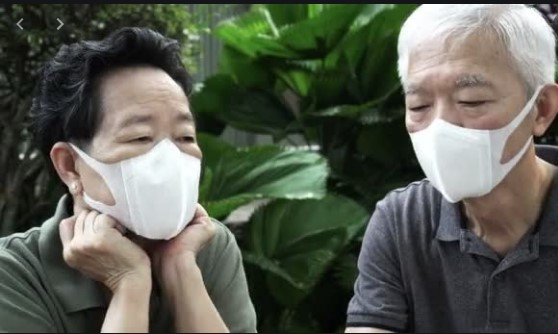face_with_mask: (47, 43, 205, 247), (395, 9, 555, 204)
